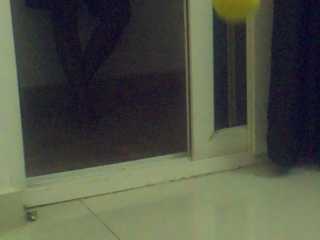ball: (212, 0, 260, 21)
